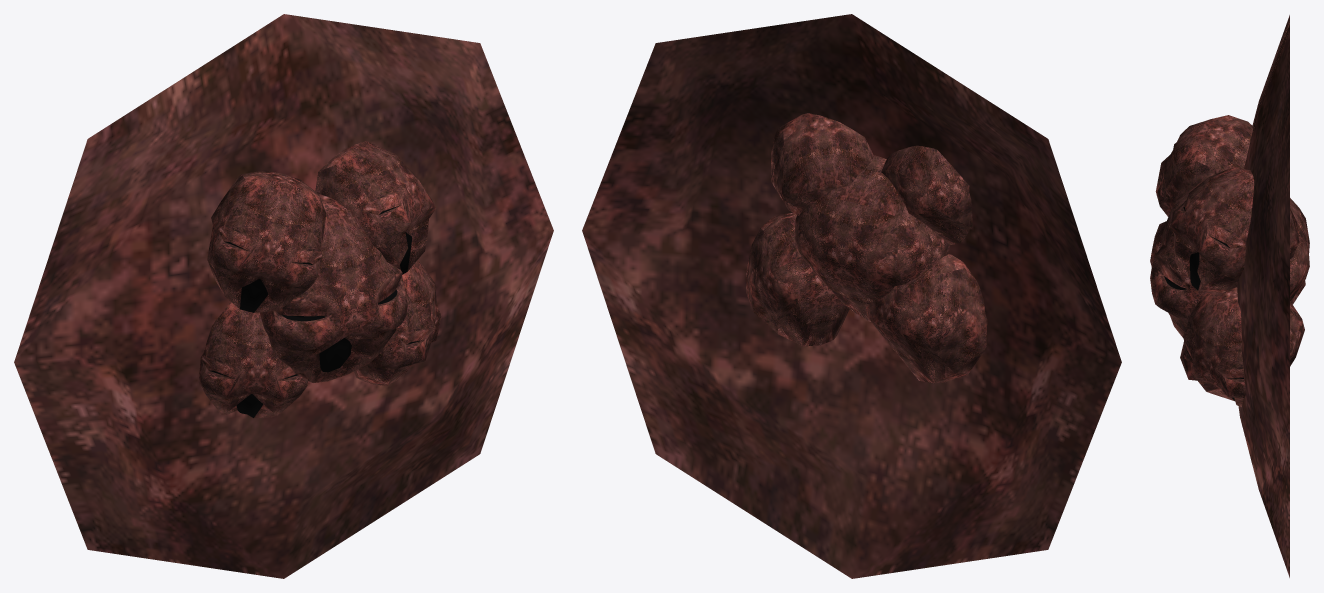
Rendered from Teratoma2.glb.
3 renders of one model, left to right at view 1: azimuth 30°, elevation 25°; view 2: azimuth 150°, elevation 25°; view 3: azimuth 270°, elevation 25°, orthographic. The views are drawn at different scales.
Parts seen in each view (by area): view 1: Plane, Head, Head_004, Head_001, Head_002, Head_003; view 2: Plane, Head, Head_002, Head_003, Head_001, Head_004; view 3: Plane, Head_001, Head_003, Head_004, Head.
Boxes of the visible parts, <box> form: Plane: <box>14,14,553,578</box>; Head: <box>259,194,407,382</box>; Head_004: <box>207,170,326,312</box>; Head_001: <box>315,141,436,274</box>; Head_002: <box>198,302,307,418</box>; Head_003: <box>354,259,441,385</box>; Plane: <box>582,14,1121,578</box>; Head: <box>794,155,949,322</box>; Head_002: <box>866,254,987,383</box>; Head_003: <box>746,213,849,346</box>; Head_001: <box>770,113,873,215</box>; Head_004: <box>881,145,972,244</box>; Plane: <box>1237,15,1289,577</box>; Head_001: <box>1171,167,1299,293</box>; Head_003: <box>1180,287,1304,406</box>; Head_004: <box>1155,115,1253,216</box>; Head: <box>1150,182,1309,337</box>.
Bounding box in the file's own units: 17.24 × 17.24 × 4.71.
Materials: 2 (1 with a texture image).
